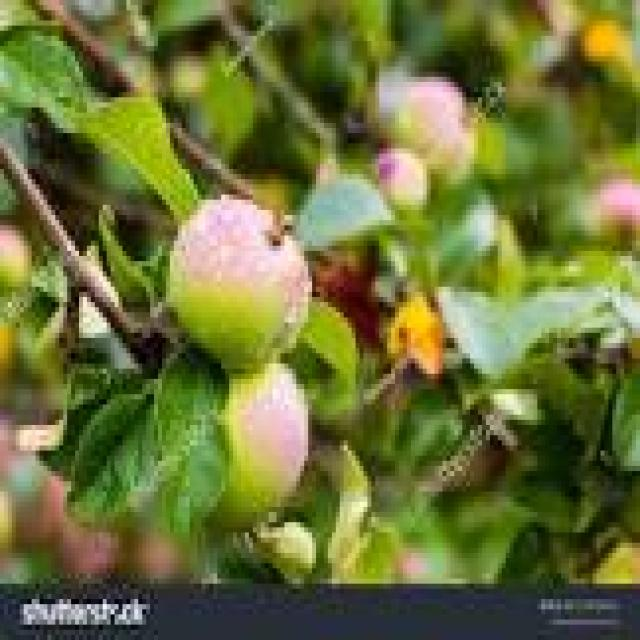apple: (166, 195, 308, 522), (395, 82, 470, 169)
